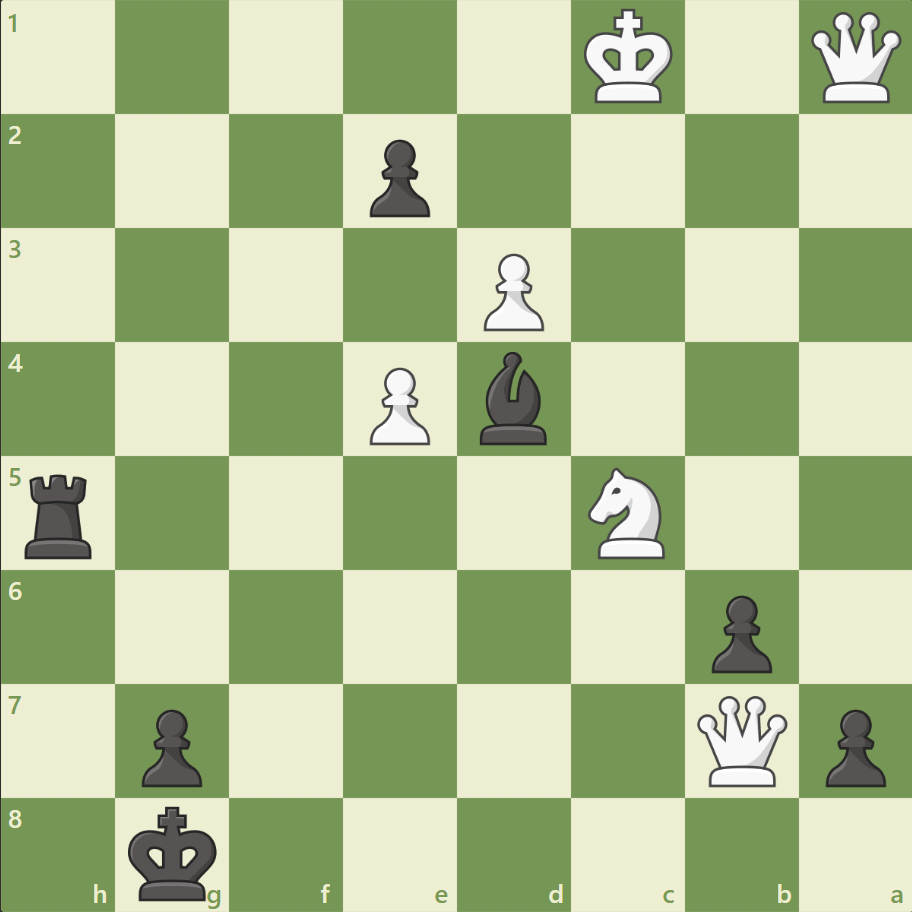K: (579, 4, 679, 112)
N: (579, 461, 676, 564)
P: (474, 246, 549, 337), (361, 359, 435, 450)
Q: (691, 690, 790, 789), (805, 9, 904, 108)
b: (471, 347, 555, 449)
k: (124, 798, 224, 906)
p: (133, 700, 208, 791), (701, 586, 776, 677), (815, 700, 889, 791), (361, 132, 435, 223)
r: (19, 466, 102, 563)
